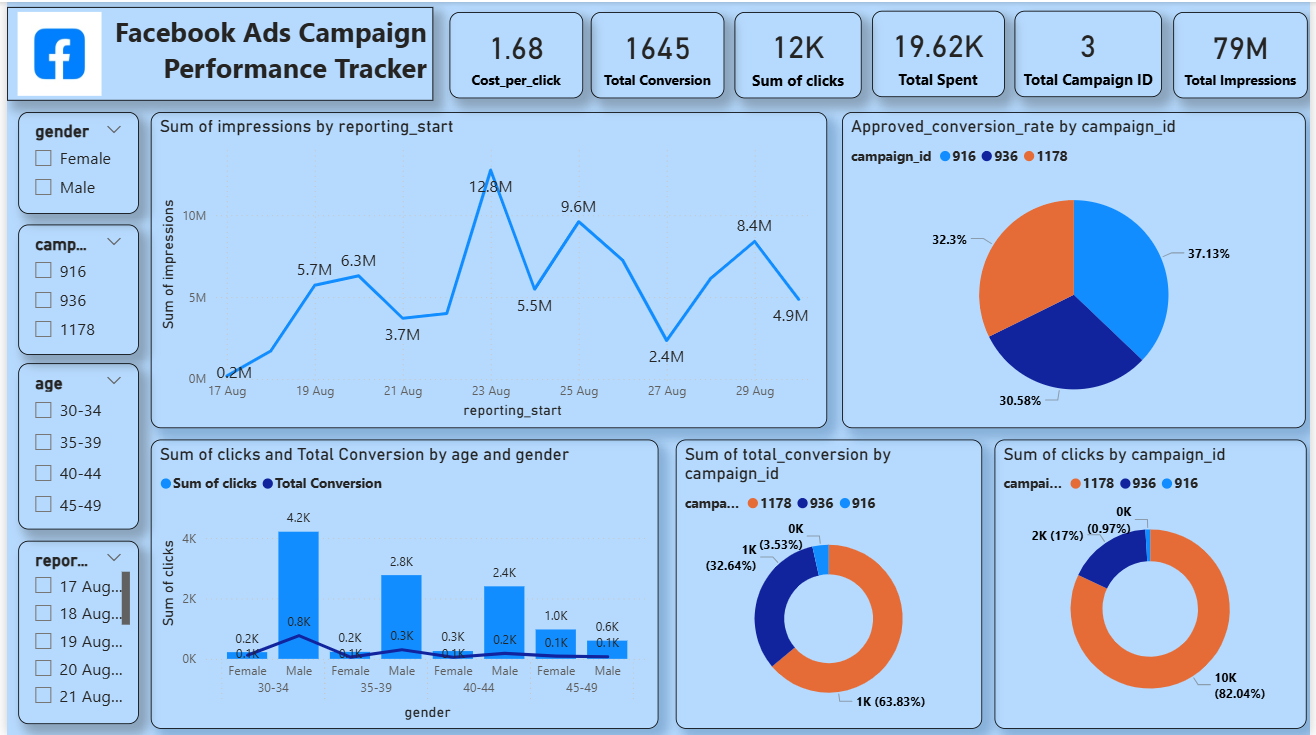

The page's visual inventory and layout, read from the dashboard file:
{"tool":"powerbi","page":{"name":"Page 1","canvas":[1280,720],"ordinal":0},"visuals":[{"type":"textbox","box":[0,5.5,418.5,91.9],"z":0},{"type":"card","title":"CPC","fields":{"Values":["data.Cost_per_click"]},"box":[434,9.6,131,85.1],"z":1000},{"type":"donutChart","fields":{"Category":["data.campaign_id"],"Y":["Sum(data.clicks)"]},"box":[968.8,429.5,306,284],"z":2000},{"type":"donutChart","fields":{"Y":["Sum(data.total_conversion)"],"Category":["data.campaign_id"]},"box":[655.9,429.5,300.5,284],"z":3000},{"type":"lineChart","fields":{"Y":["Sum(data.impressions)"],"Category":["data.reporting_start.Variation.Date Hierarchy.Year"]},"box":[141.3,108.4,664.2,310.1],"z":4000},{"type":"slicer","fields":{"Values":["data.gender"]},"box":[11,108.4,118,100.2],"z":5000},{"type":"slicer","fields":{"Values":["data.campaign_id"]},"box":[11,218.2,118,127.6],"z":6000},{"type":"pieChart","fields":{"Y":["data.Approved_conversion_rate"],"Series":["data.campaign_id"]},"box":[819.2,108.4,455.6,310.1],"z":7000},{"type":"card","fields":{"Values":["data.Total Spent"]},"box":[849,9,130,85],"z":8000},{"type":"lineClusteredColumnComboChart","fields":{"Category":["data.age","data.gender"],"Y":["Sum(data.clicks)"],"Y2":["data.Total Conversion"]},"box":[141.3,429.5,498.1,284],"z":9000},{"type":"slicer","fields":{"Values":["data.age"]},"box":[11,354,118,163.3],"z":10000},{"type":"card","fields":{"Values":["data.Total Impressions"]},"box":[1144.4,9.6,132,85.1],"z":11000},{"type":"card","fields":{"Values":["data.Total Campaign ID"]},"box":[989,9,145,85],"z":12000},{"type":"image","box":[0,5.5,102.9,91.9],"z":13000},{"type":"card","fields":{"Values":["data.Total Conversion"]},"box":[573.6,9.6,131,85.1],"z":14000},{"type":"card","fields":{"Values":["Sum(data.clicks)"]},"box":[713.6,9.6,124.9,85.1],"z":15000},{"type":"slicer","fields":{"Values":["data.reporting_start"]},"box":[11,528.3,118,179.8],"z":16000}]}

Visuals, with their boxes in screenshot pixels (x1, y1, x2, y2), scaled from the page's 1280x720 canvas onto the 1316x735 screenshot:
textbox: 0:6:430:99
"CPC" card: 446:10:581:97
donutChart - data.campaign_id x Sum(data.clicks): 996:438:1311:728
donutChart - Sum(data.total_conversion) x data.campaign_id: 674:438:983:728
lineChart - Sum(data.impressions) x data.reporting_start.Variation.Date Hierarchy.Year: 145:111:828:427
slicer - data.gender: 11:111:133:213
slicer - data.campaign_id: 11:223:133:353
pieChart - data.Approved_conversion_rate x data.campaign_id: 842:111:1311:427
card - data.Total Spent: 873:9:1007:96
lineClusteredColumnComboChart - data.age x data.gender: 145:438:657:728
slicer - data.age: 11:361:133:528
card - data.Total Impressions: 1177:10:1312:97
card - data.Total Campaign ID: 1017:9:1166:96
image: 0:6:106:99
card - data.Total Conversion: 590:10:724:97
card - Sum(data.clicks): 734:10:862:97
slicer - data.reporting_start: 11:539:133:723
